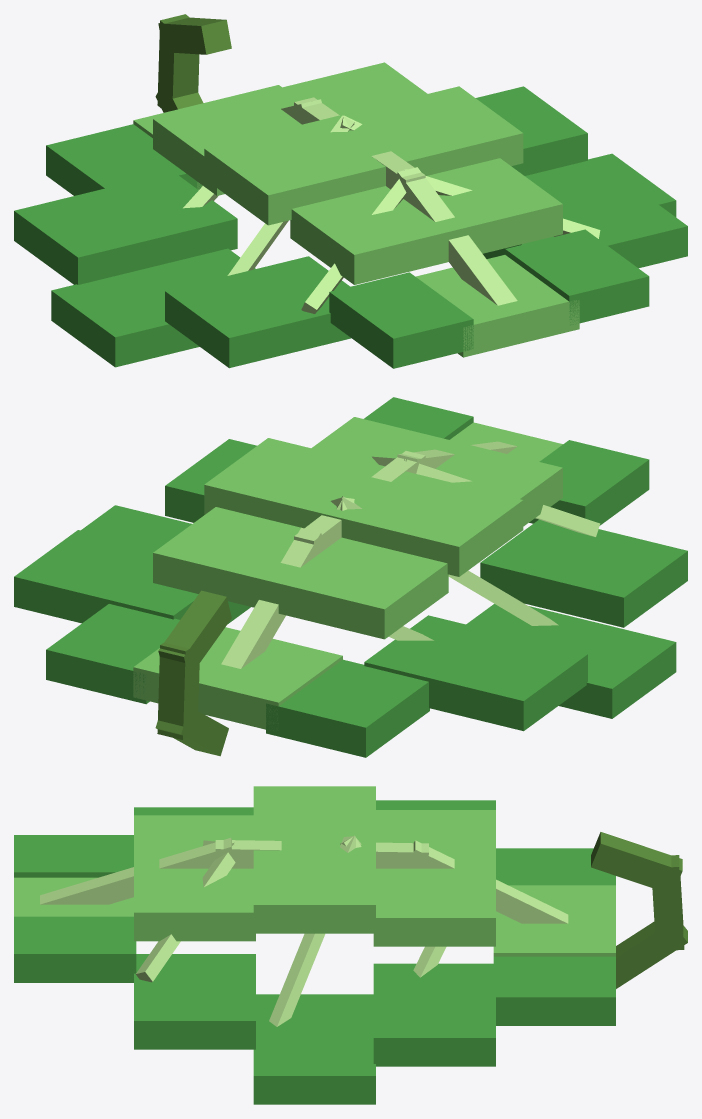
The model's file is leaf-hat-blocky.glb.
The picture shows the model from 3 angles, top to bottom: view 1: azimuth 30°, elevation 25°; view 2: azimuth 150°, elevation 25°; view 3: azimuth 270°, elevation 25°; orthographic projection. The views are drawn at different scales.
Parts seen in each view (by area): view 1: leaf-hat; view 2: leaf-hat; view 3: leaf-hat.
Part boxes in pixels (x1=…): leaf-hat: x1=14, y1=14, x2=687, y2=368; leaf-hat: x1=14, y1=397, x2=687, y2=757; leaf-hat: x1=14, y1=786, x2=687, y2=1104.
Bounding box in the file's own units: 0.1753 × 0.0469 × 0.1911.
